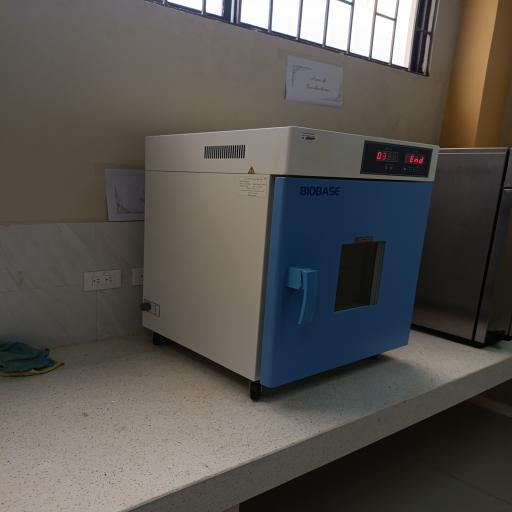Horno_Secado_Biobase: (132, 117, 445, 402)
